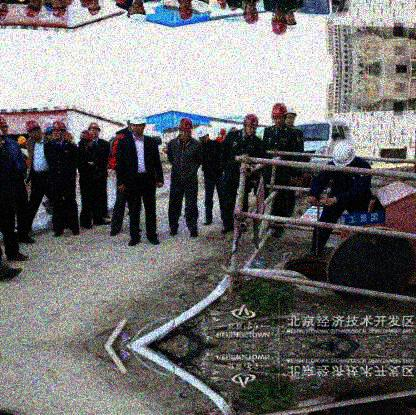helmet: (18, 120, 39, 142), (270, 10, 286, 36), (270, 102, 286, 126), (129, 4, 149, 23), (242, 4, 260, 25), (243, 114, 259, 136), (179, 1, 194, 22), (179, 116, 192, 140), (50, 1, 69, 17), (130, 113, 144, 134), (50, 120, 64, 140), (194, 125, 209, 143), (286, 12, 299, 32), (80, 130, 94, 148), (26, 1, 40, 19), (88, 1, 103, 17), (287, 107, 296, 127), (89, 121, 99, 139)
